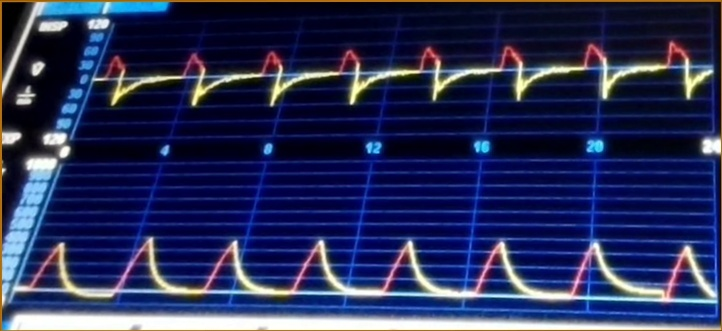Accumulation Flow: (107, 40, 714, 133)
Volume: (32, 225, 714, 308)
